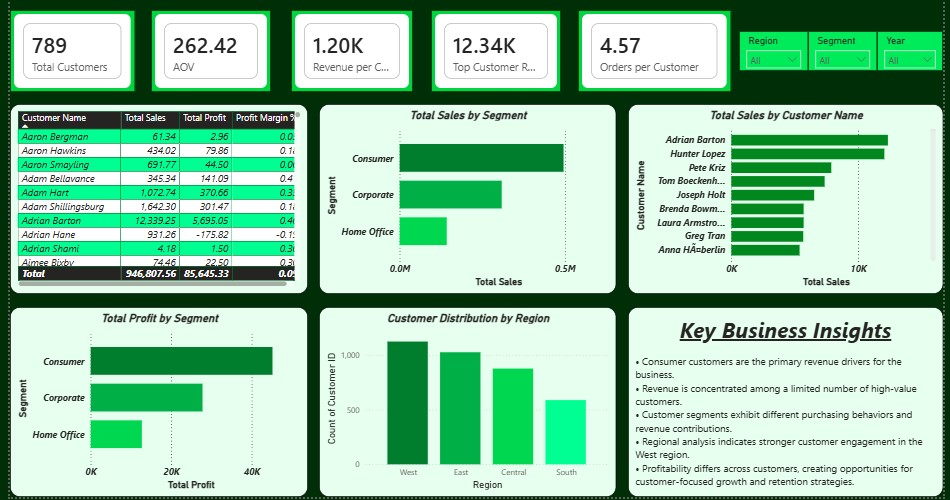

Layout of this report page (visuals, bound fields, positions):
{"tool":"powerbi","page":{"name":"Customer Analytics Dashboard","canvas":[1400,750],"ordinal":1},"visuals":[{"type":"cardVisual","fields":{"Data":["Date Table.Top Customer Revenue"]},"box":[631.5,19.5,195,123],"z":2000},{"type":"cardVisual","fields":{"Data":["Date Table.Total Customers"]},"box":[0,19.5,187.5,123],"z":3000},{"type":"cardVisual","fields":{"Data":["Date Table.AOV"]},"box":[211.5,19.5,180,123],"z":4000},{"type":"cardVisual","fields":{"Data":["Date Table.Revenue per Customer"]},"box":[421.5,19.5,183,123],"z":5000},{"type":"tableEx","fields":{"Values":["SSdataset.Customer Name","Date Table.Total Sales","Date Table.Total Profit","Date Table.Profit Margin %"]},"box":[0,160.5,447,285],"z":6000},{"type":"clusteredBarChart","fields":{"Y":["Date Table.Total Sales"],"Category":["SSdataset.Segment"]},"box":[463.5,160.5,445.5,285],"z":7000},{"type":"clusteredBarChart","fields":{"Category":["SSdataset.Segment"],"Y":["Date Table.Total Profit"]},"box":[0,465,447,285],"z":8000},{"type":"barChart","fields":{"Category":["SSdataset.Customer Name"],"Y":["Date Table.Total Sales"]},"box":[927,160.5,472.5,285],"z":9000},{"type":"columnChart","title":"Customer Distribution by Region","fields":{"Category":["SSdataset.Region"],"Y":["CountNonNull(SSdataset.Customer ID)"]},"box":[463.5,465,445.5,285],"z":10000},{"type":"textbox","box":[927,465,472.5,285],"z":11000},{"type":"slicer","fields":{"Values":["SSdataset.Region"]},"box":[1093.5,51,103.5,60],"z":12000},{"type":"slicer","fields":{"Values":["SSdataset.Segment"]},"box":[1197,51,103.5,60],"z":13000},{"type":"slicer","fields":{"Values":["Date Table.Year"]},"box":[1300.5,51,99,60],"z":14000},{"type":"cardVisual","fields":{"Data":["Date Table.Orders per Customer"]},"box":[852,19.5,229.5,123],"z":15001}]}

Visuals, with their boxes in screenshot pixels (x1, y1, x2, y2), scaled from the page's 1400x750 canvas onto the 950x500 screenshot:
cardVisual - Date Table.Top Customer Revenue: detection(429, 13, 561, 95)
cardVisual - Date Table.Total Customers: detection(0, 13, 127, 95)
cardVisual - Date Table.AOV: detection(144, 13, 266, 95)
cardVisual - Date Table.Revenue per Customer: detection(286, 13, 410, 95)
tableEx - SSdataset.Customer Name x Date Table.Total Sales: detection(0, 107, 303, 297)
clusteredBarChart - Date Table.Total Sales x SSdataset.Segment: detection(315, 107, 617, 297)
clusteredBarChart - SSdataset.Segment x Date Table.Total Profit: detection(0, 310, 303, 499)
barChart - SSdataset.Customer Name x Date Table.Total Sales: detection(629, 107, 949, 297)
"Customer Distribution by Region" columnChart: detection(315, 310, 617, 499)
textbox: detection(629, 310, 949, 499)
slicer - SSdataset.Region: detection(742, 34, 812, 74)
slicer - SSdataset.Segment: detection(812, 34, 882, 74)
slicer - Date Table.Year: detection(882, 34, 949, 74)
cardVisual - Date Table.Orders per Customer: detection(578, 13, 734, 95)
